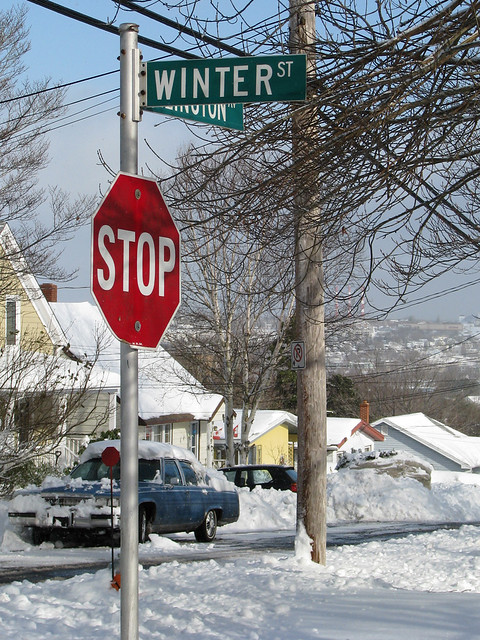car: (12, 456, 239, 546), (217, 465, 298, 493)
